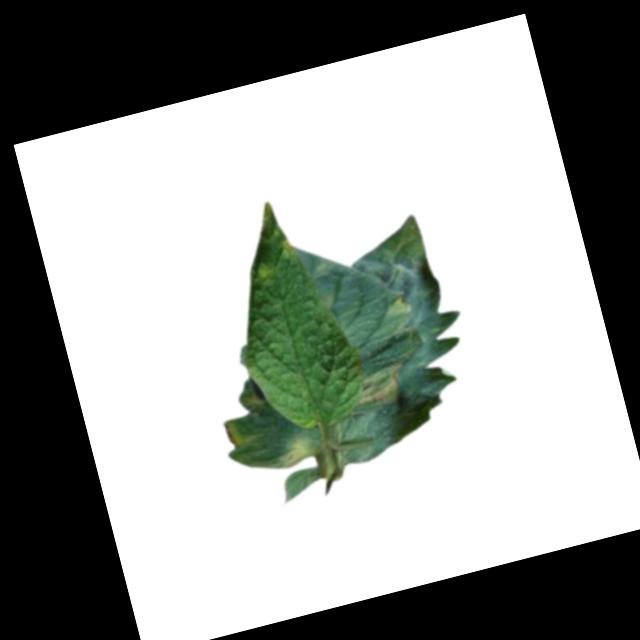Leaf_Mold: (349, 360, 410, 411), (276, 434, 320, 470), (222, 416, 256, 453), (383, 290, 411, 320), (272, 231, 299, 260), (250, 255, 275, 282)
